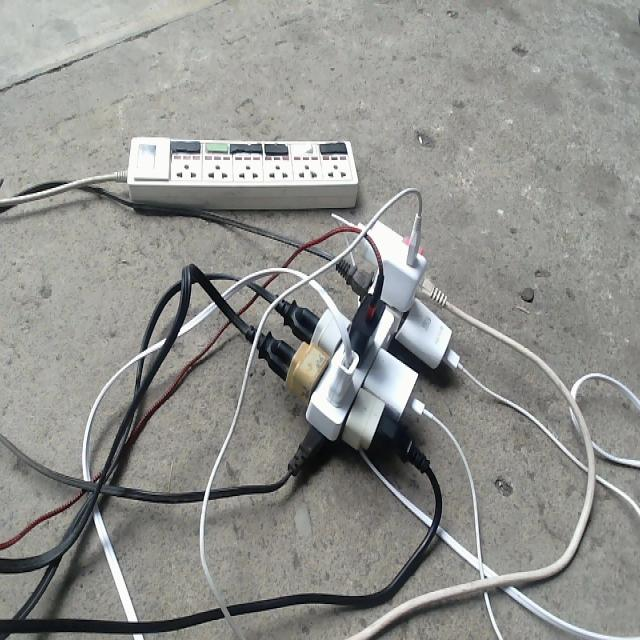-: (242, 208, 462, 484)
